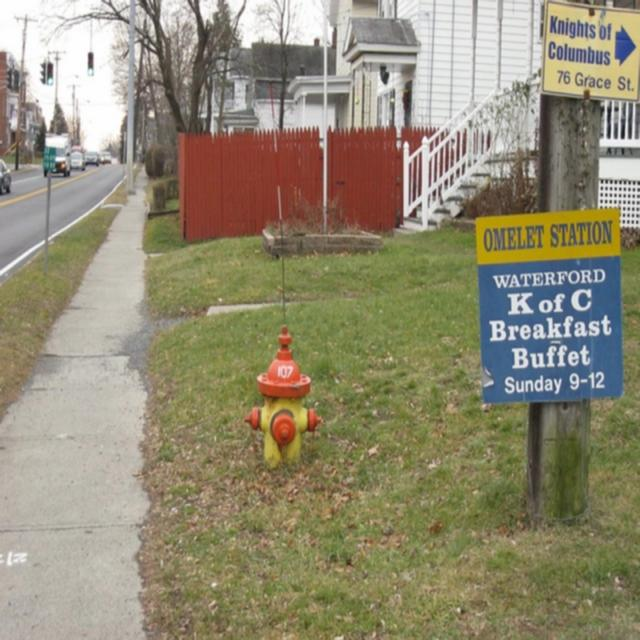car: (0, 158, 11, 194), (69, 151, 84, 169), (83, 148, 98, 164), (100, 149, 110, 164), (97, 150, 103, 162)
fire_hydrant: (241, 318, 325, 462)
pole: (122, 2, 138, 194)
truck: (42, 131, 70, 176)
